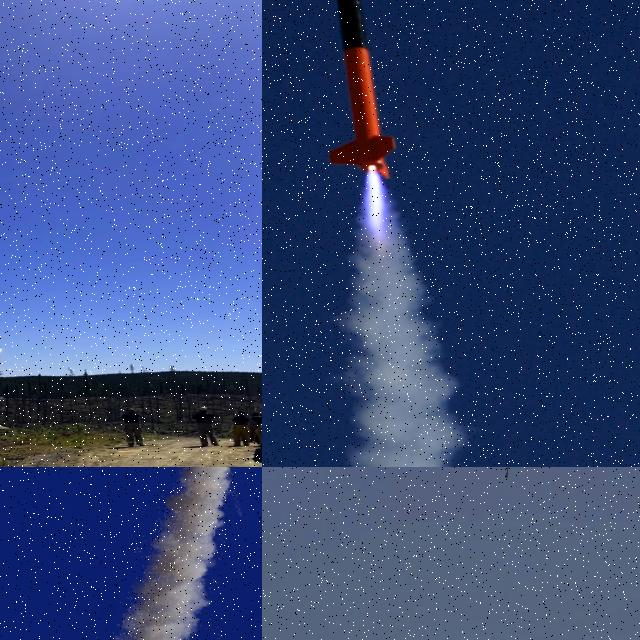Rocket: (327, 0, 395, 181), (505, 467, 509, 480), (0, 345, 2, 349)
